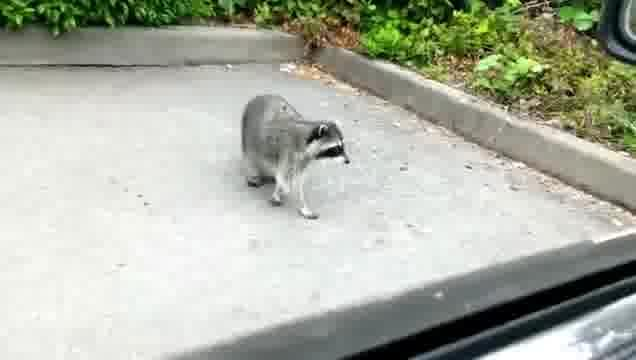raccoon: (235, 91, 355, 222)
